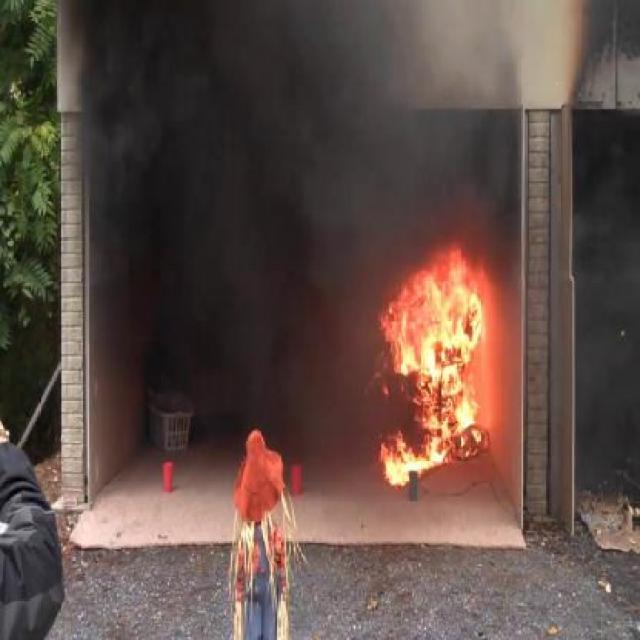fire: (384, 277, 486, 468)
smoke: (91, 25, 371, 418)
